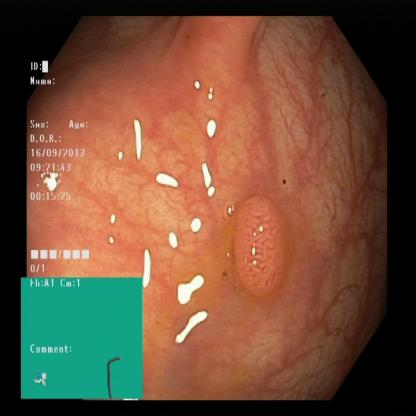Labels: (23, 58, 103, 280), (20, 278, 143, 399)
Polyps: (235, 198, 290, 289)
